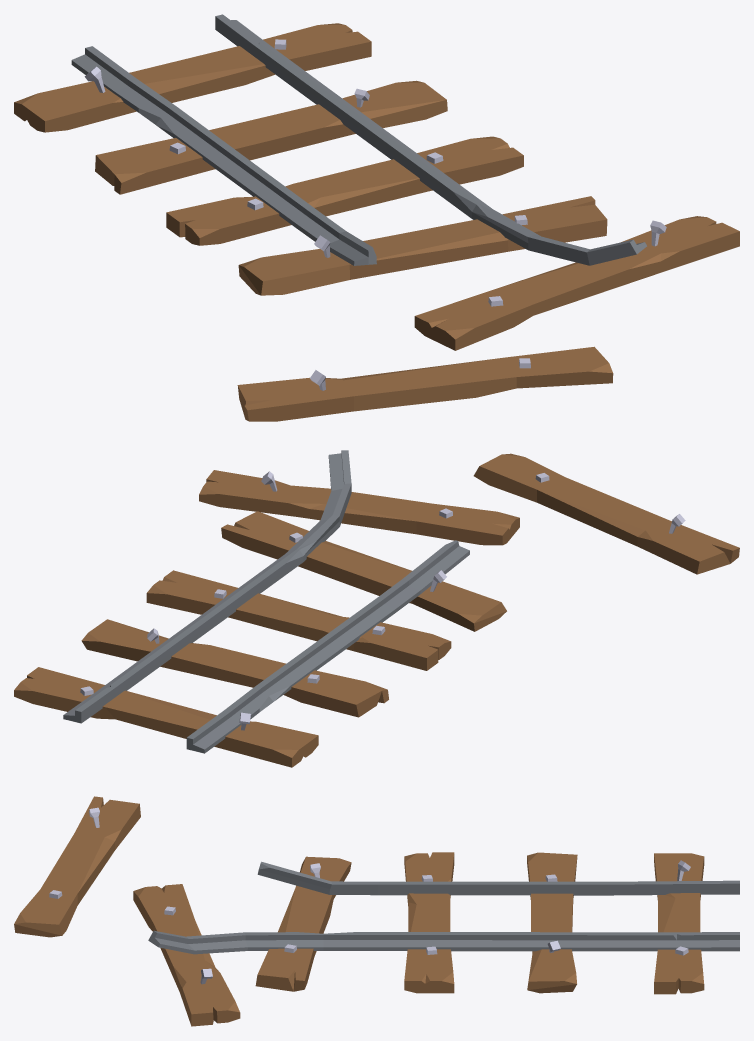
The model's file is Mine track_00.FBX.
3 views of the same model, one above another, from view 1: azimuth 30°, elevation 25°; view 2: azimuth 150°, elevation 25°; view 3: azimuth 270°, elevation 25° (orthographic). The views are drawn at different scales.
Parts seen in each view (by area): view 1: Mine track_00; view 2: Mine track_00; view 3: Mine track_00.
Boxes of the visible parts, x1,y1,x2,y2 form: Mine track_00: (14, 14, 739, 421); Mine track_00: (14, 450, 739, 767); Mine track_00: (14, 796, 739, 1026).
Bounding box in the file's own units: 31.66 × 3.14 × 44.59.
